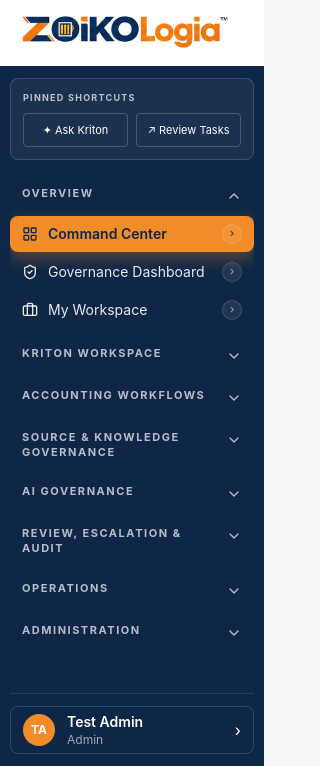
Test: Sidebar responsiveness › collapses and reopens the section containing the current page
Click the button "Overview": click(132, 195) [10,176,254,214]
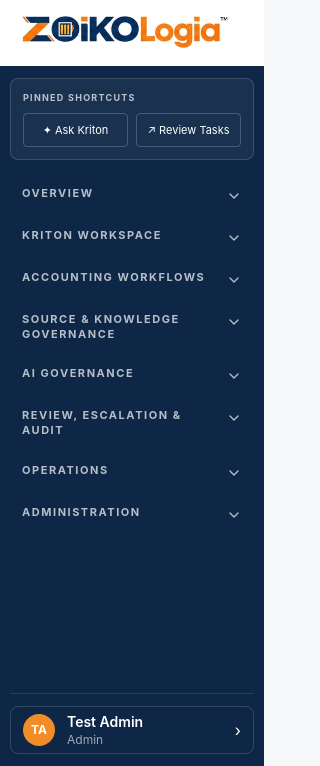
Expected: the button "Overview" is collapsed
Expected: the link "Command Center" is gone
Click the button "Overview": click(132, 195) [10,176,254,214]
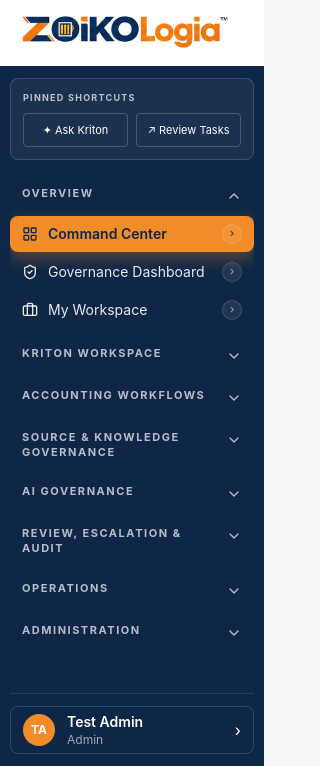
Expected: the button "Overview" is expanded, [10,176,254,214]
